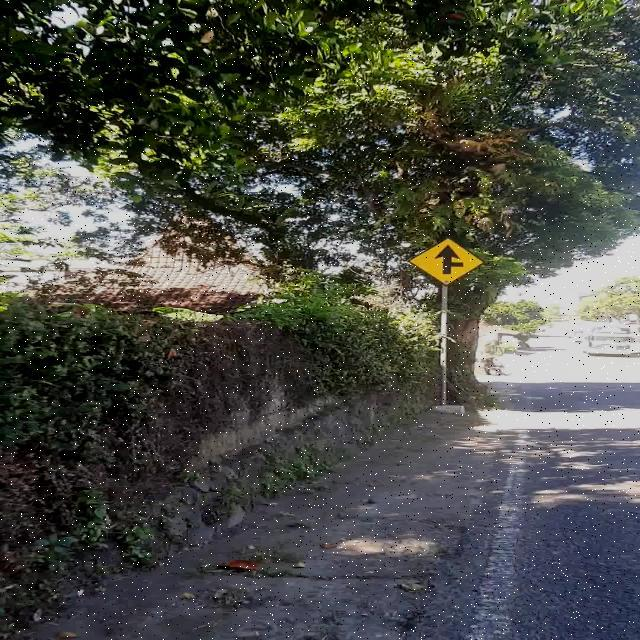Persimpangan 3 Prioritas Kanan: (408, 238, 483, 286)
